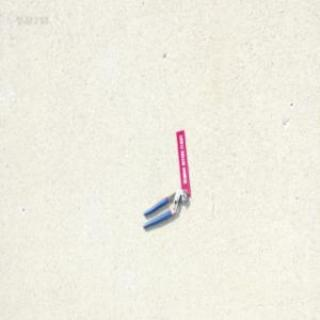LuggageTagtrack_idkeyframe: (175, 128, 190, 195)
Pliertrack_idkeyframe: (142, 188, 186, 228)
